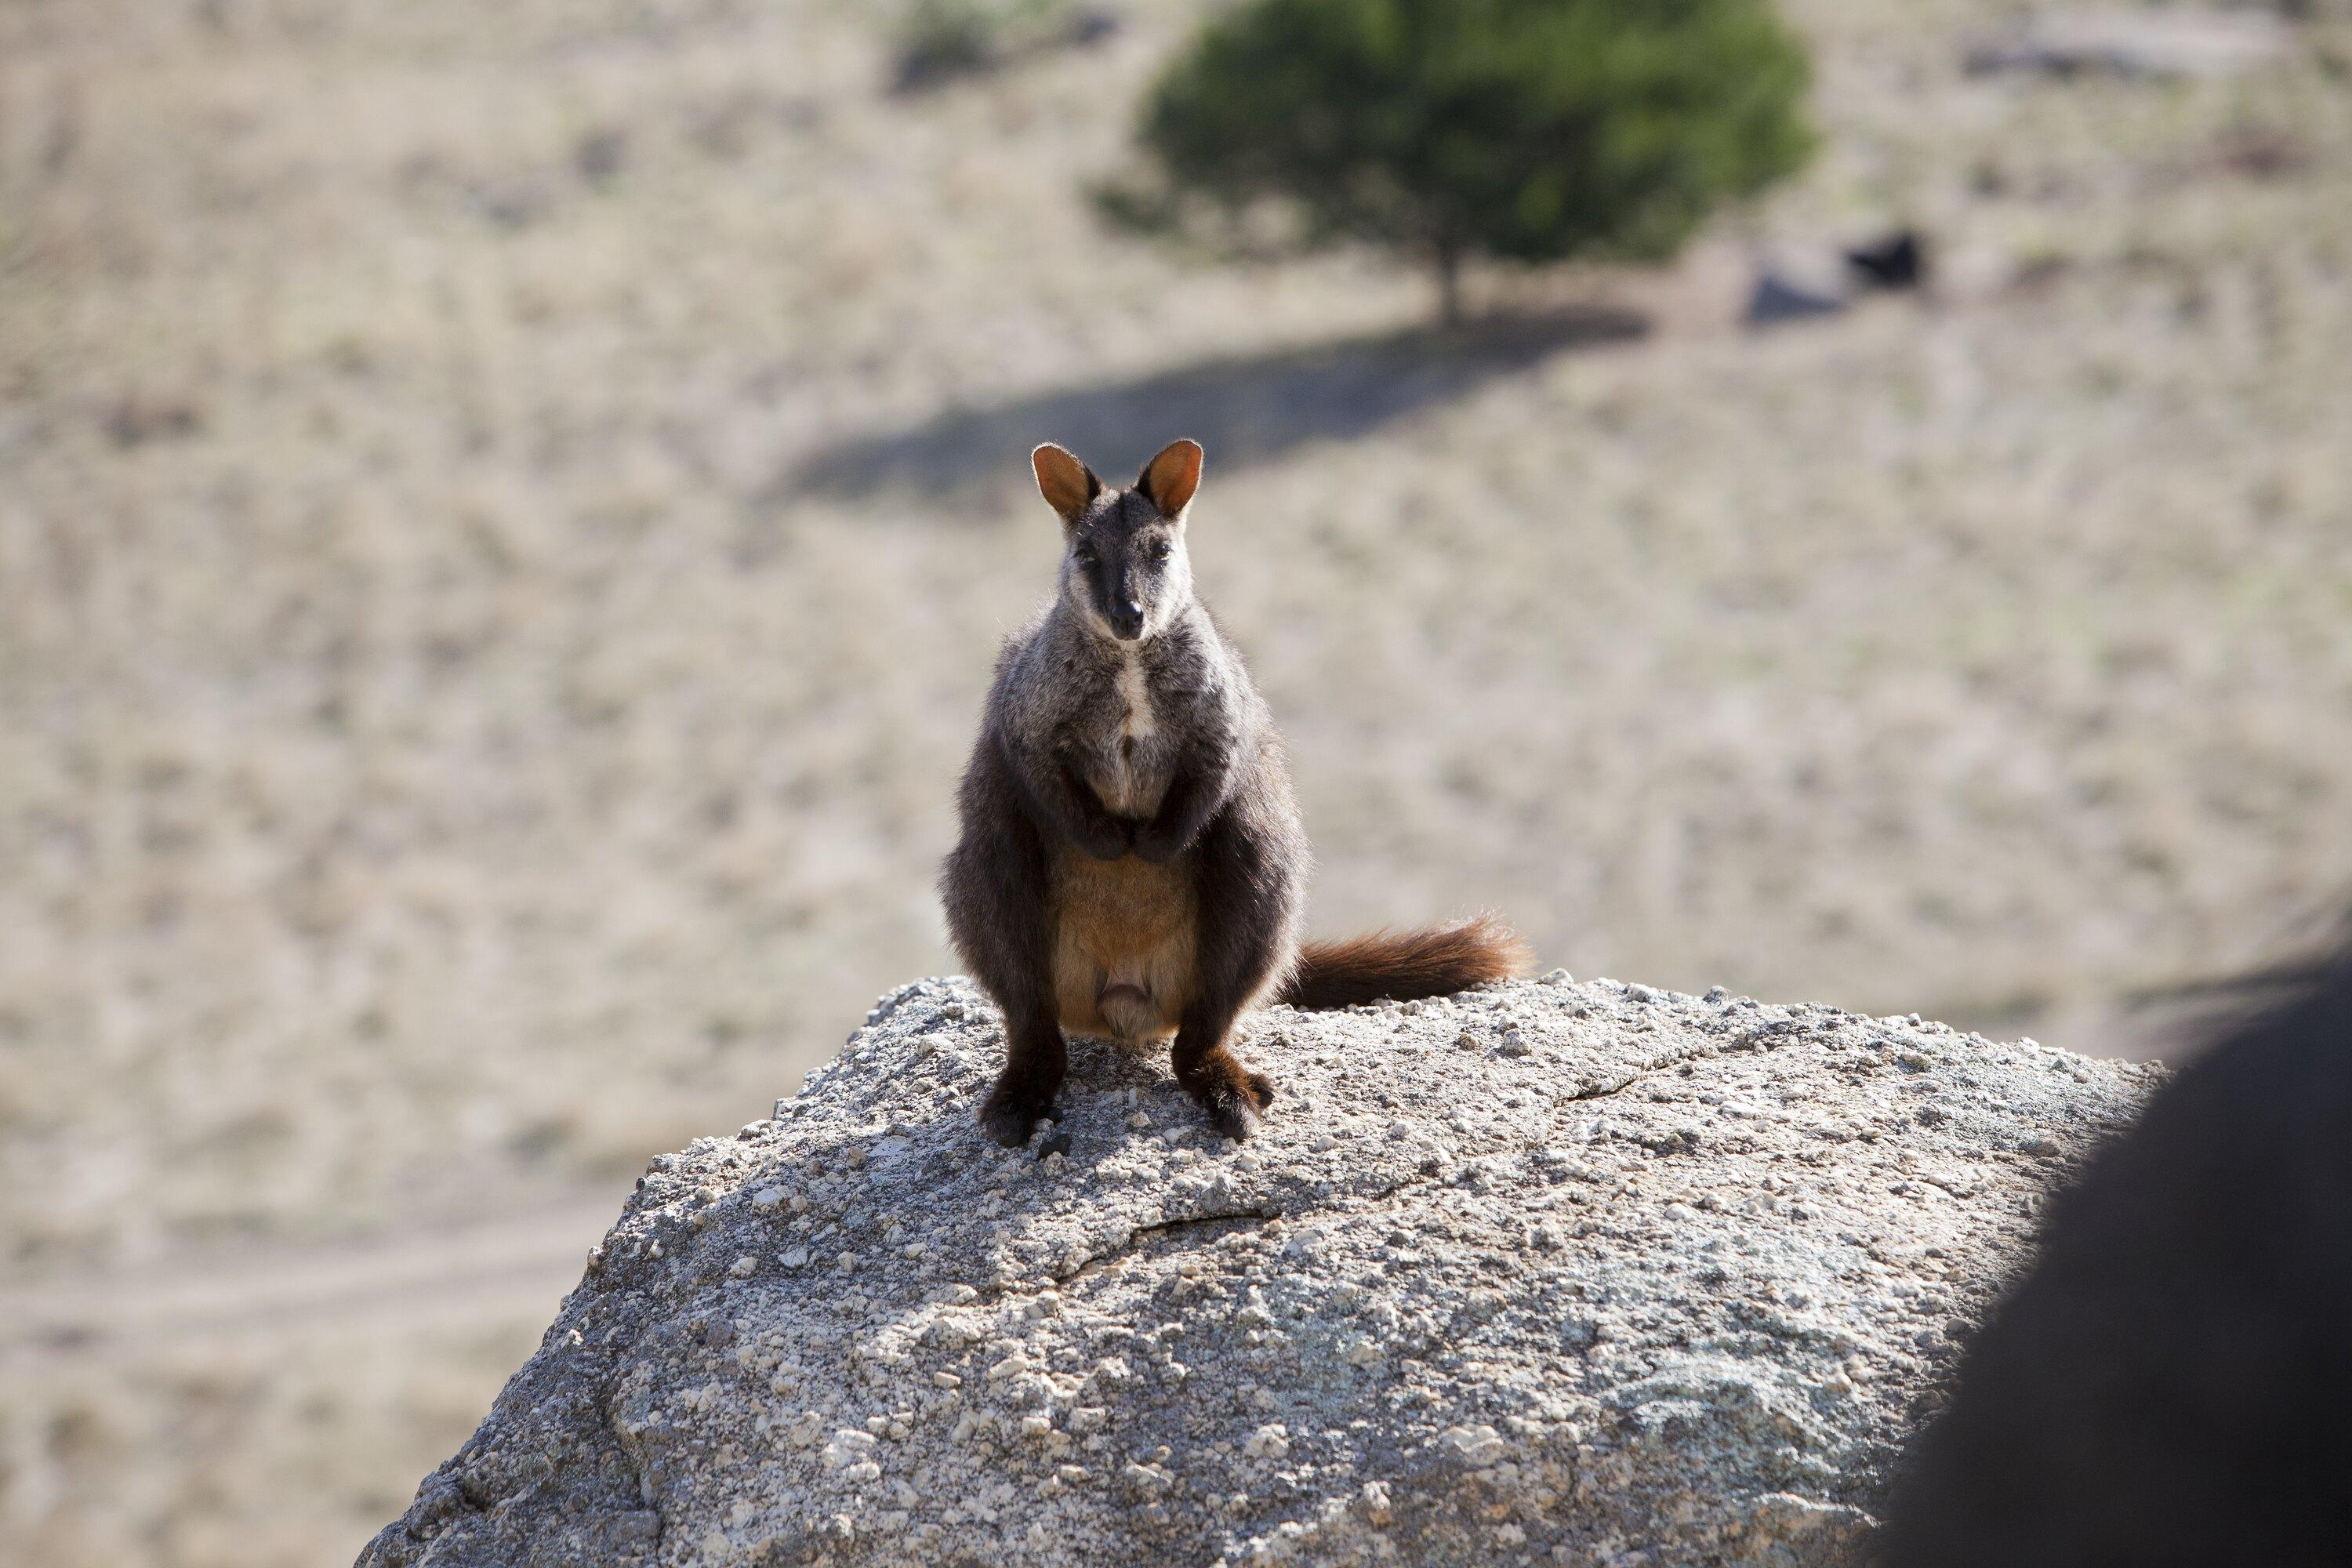Brush-tailed rock-wallaby: (914, 438, 1528, 1174)
